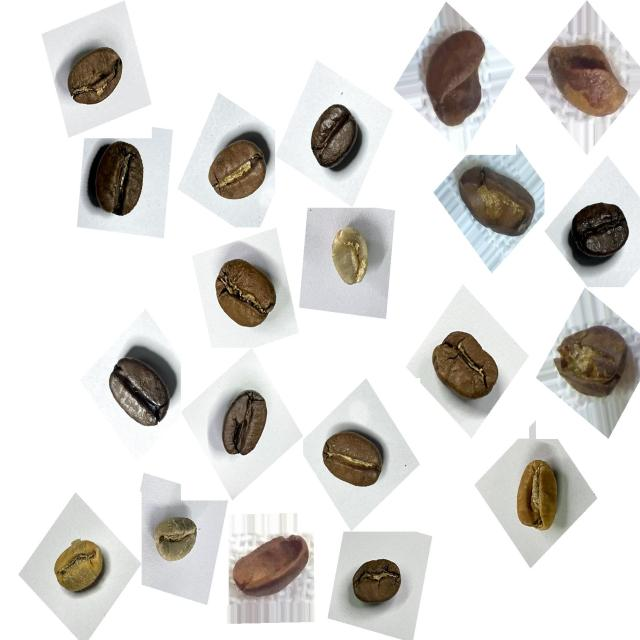bad: (414, 16, 501, 136), (540, 30, 634, 132), (547, 310, 635, 409), (450, 154, 540, 248), (229, 522, 315, 611)
dark: (99, 342, 180, 441), (561, 192, 637, 278), (303, 91, 372, 180), (211, 380, 278, 470)
green: (320, 218, 384, 300), (145, 506, 207, 574)
light: (502, 449, 571, 543), (46, 528, 113, 606)
medium: (424, 320, 508, 415), (203, 248, 285, 344), (78, 135, 160, 231), (200, 125, 275, 216), (315, 419, 394, 501), (58, 38, 133, 121), (346, 548, 412, 616)
